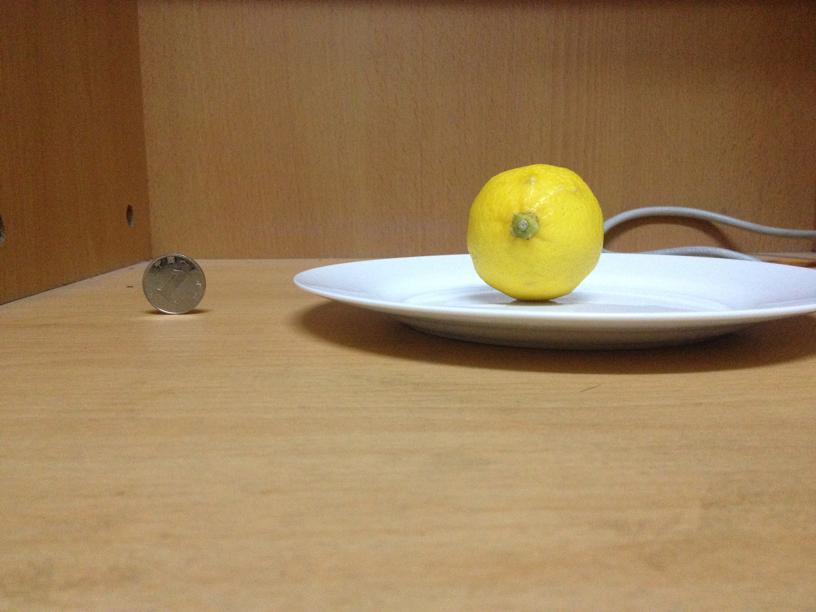coin: (140, 252, 205, 314)
lemon: (466, 162, 602, 300)
